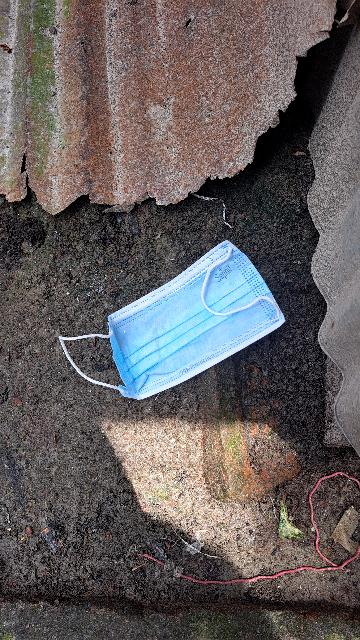mask: (46, 238, 305, 400)
